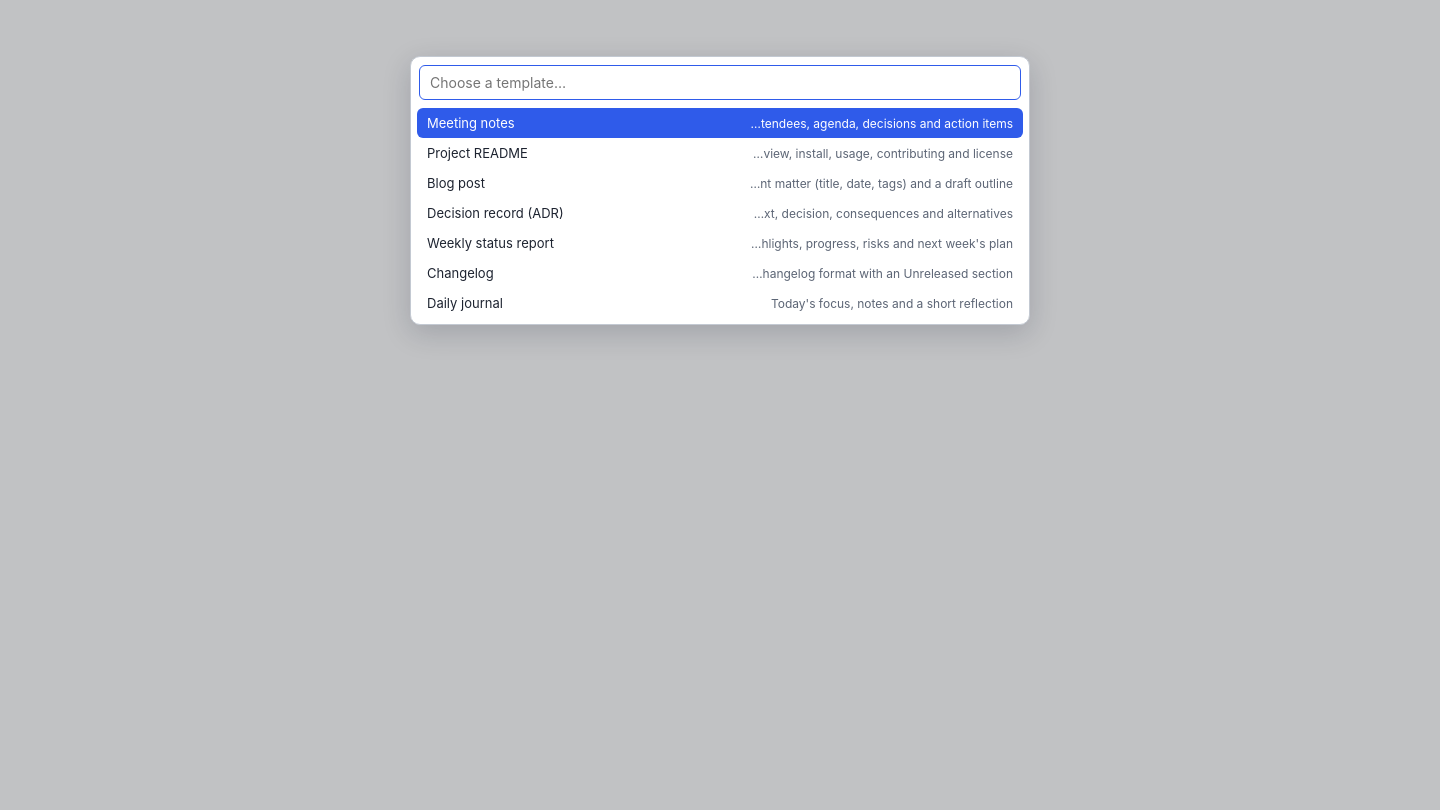
Test: templates › is picked from the palette with New from Template
The width and height of the screenshot is (1440, 810).
Type "adr" into the dropdown at (720, 82), box left=419, top=65, right=1021, bottom=100
Then press Enter
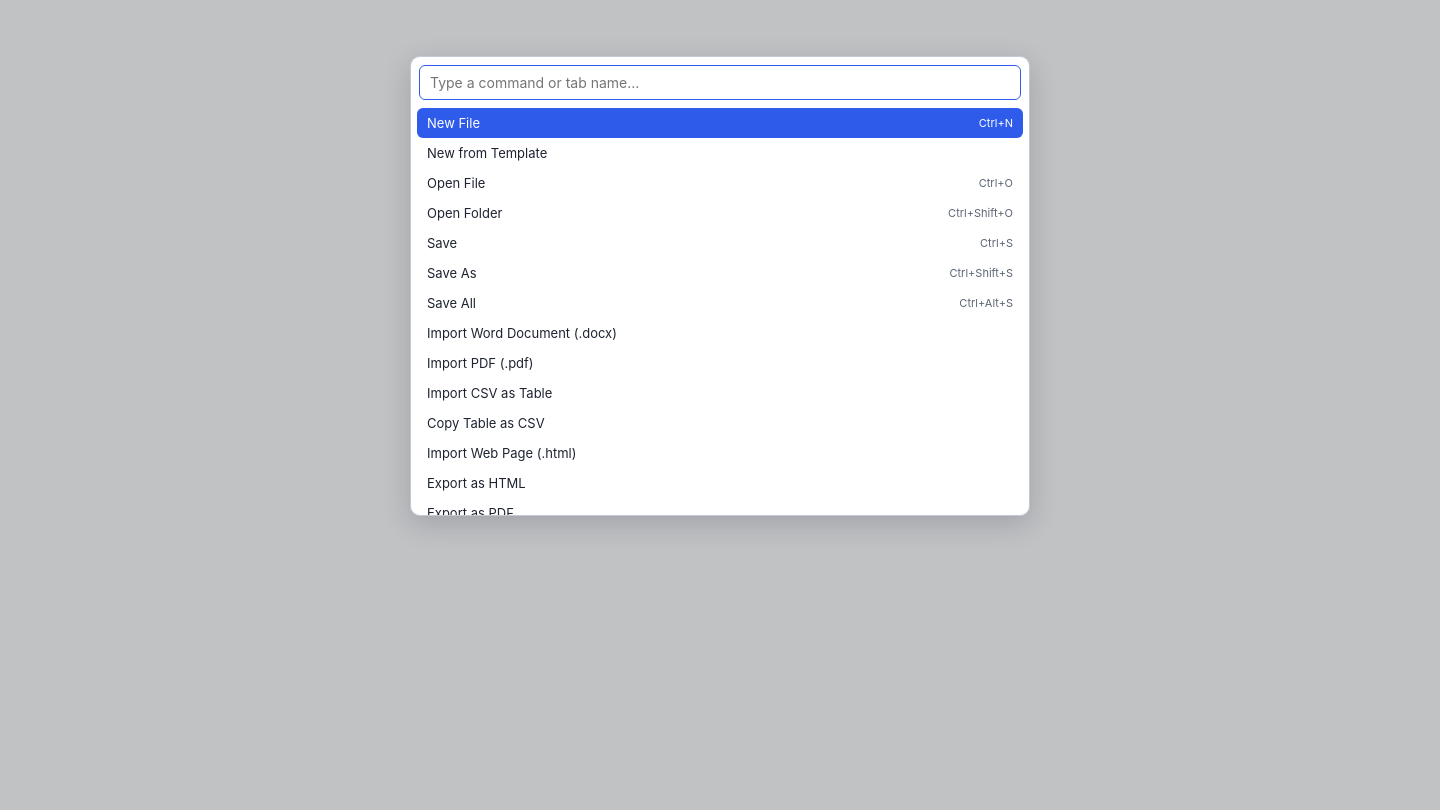
Expected: the dialog named "Command palette" is shown, left=410, top=56, right=1030, bottom=516
